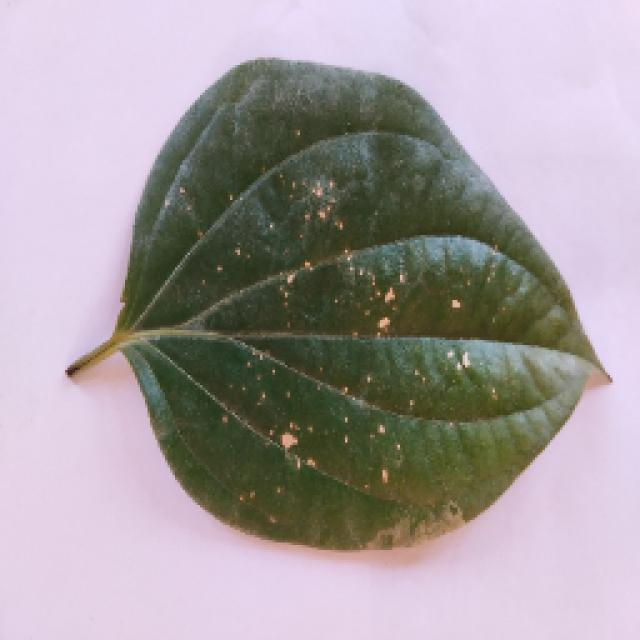pollu-disease: (65, 60, 605, 550)
